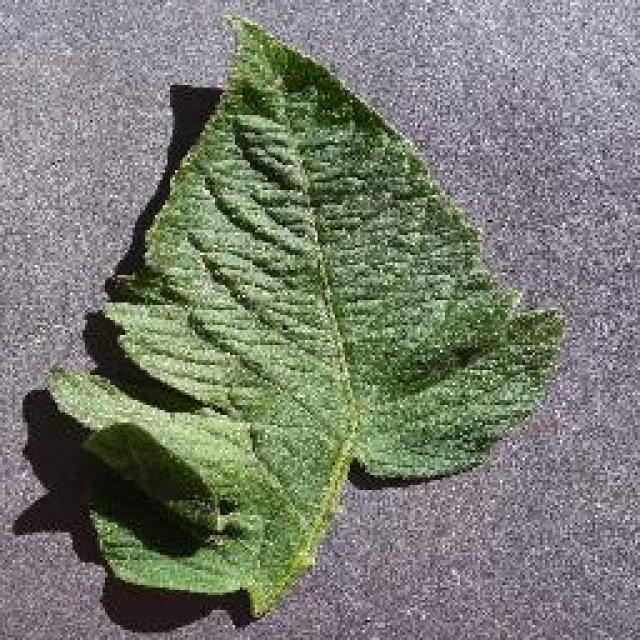Tomato healthy leaf: (51, 21, 556, 604)
